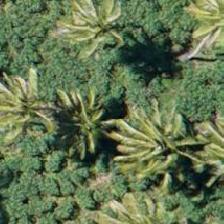coconut_tree: (117, 96, 207, 186), (56, 0, 146, 85), (0, 63, 60, 153), (91, 170, 181, 223), (163, 0, 223, 64)
